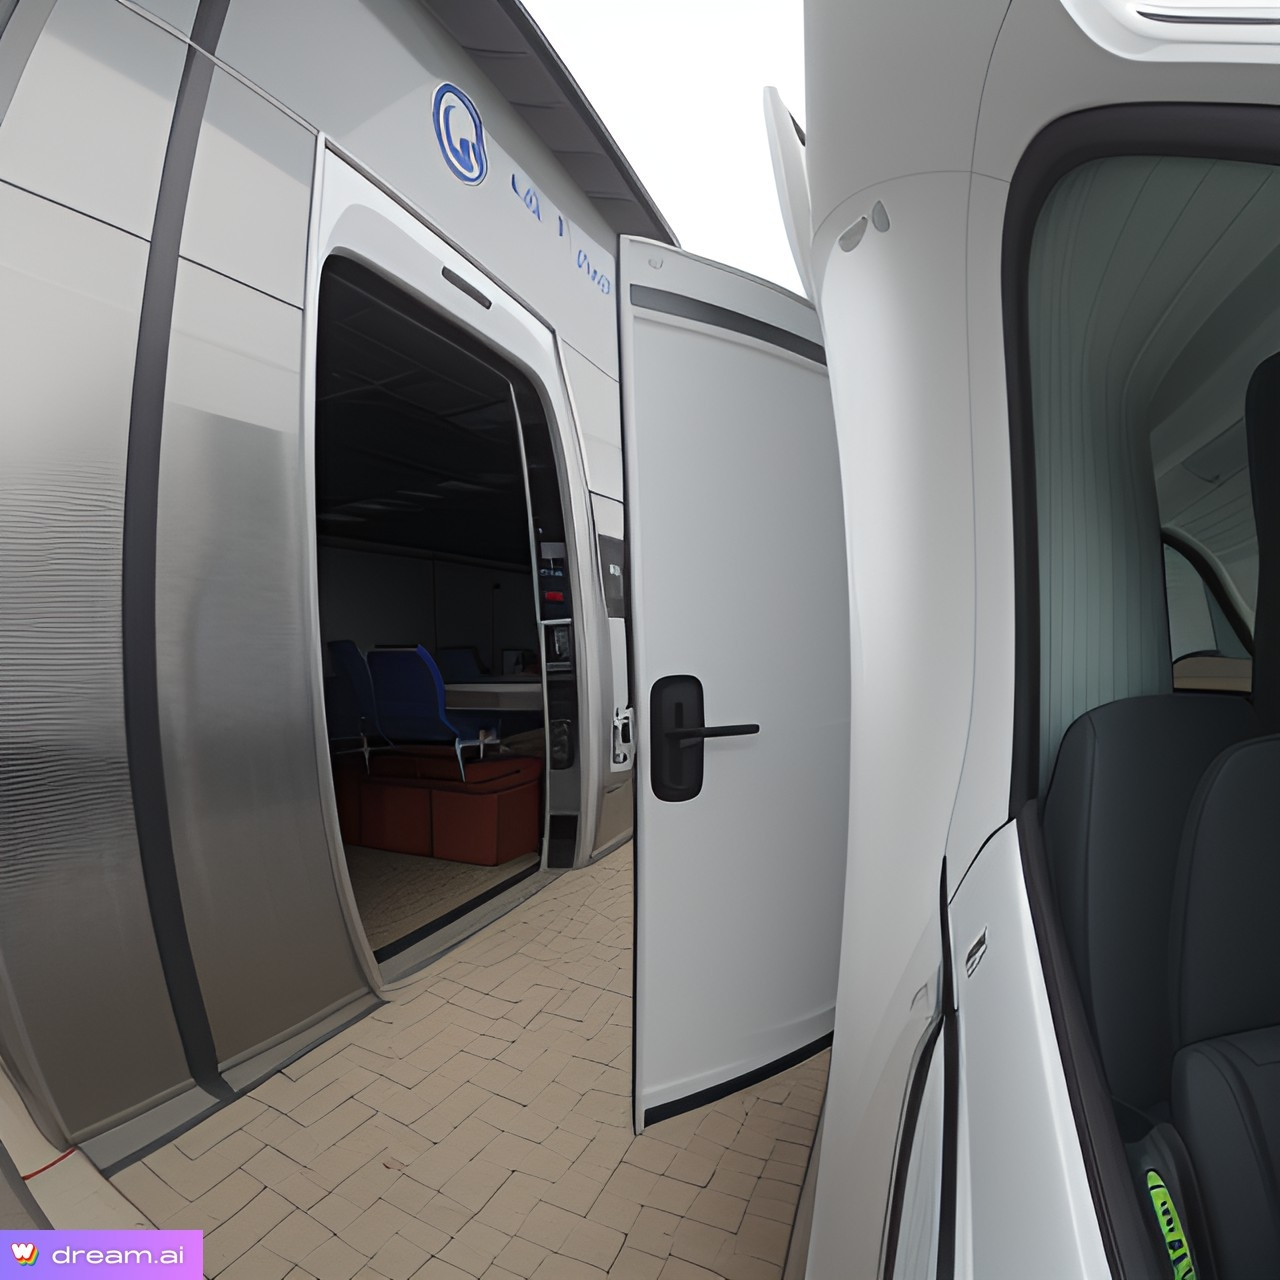door_front: (599, 213, 881, 1157)
